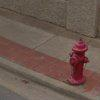Hydrant: (62, 33, 94, 93)
